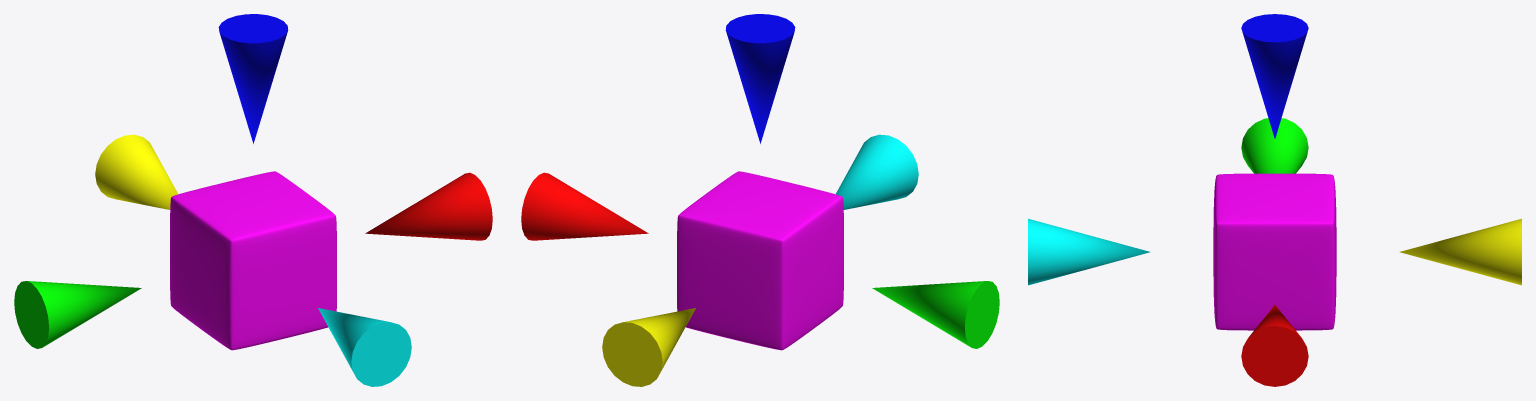
Rendered from direction cube.fbx.
3 views of the same model, side by side, from view 1: azimuth 30°, elevation 25°; view 2: azimuth 150°, elevation 25°; view 3: azimuth 270°, elevation 25° (orthographic). The views are drawn at different scales.
Visible parts, largest first — view 1: pCube1, pCone4, pCone1, pCone5, pCone3, pCone2; view 2: pCube1, pCone4, pCone1, pCone5, pCone2, pCone3; view 3: pCube1, pCone1, pCone2, pCone3, pCone5, pCone4.
Part boxes in pixels (x1,y1,x2,y2): pCube1: (170,171,336,350); pCone4: (14,281,141,348); pCone1: (218,14,288,143); pCone5: (365,172,492,240); pCone3: (318,308,411,386); pCone2: (95,134,177,209); pCube1: (677,171,843,350); pCone4: (872,281,999,348); pCone1: (725,14,795,143); pCone5: (521,172,648,240); pCone2: (602,308,695,386); pCone3: (836,134,918,209); pCube1: (1213,173,1336,330); pCone1: (1241,14,1308,138); pCone2: (1399,218,1521,285); pCone3: (1028,218,1150,285); pCone5: (1241,305,1308,386); pCone4: (1241,118,1308,173).
Size of the model in its own units: 3.99 by 2.5 by 3.99.
